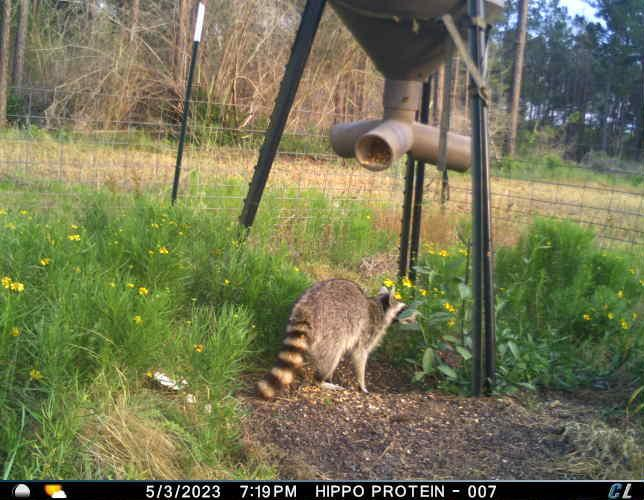Raccoon: (252, 273, 411, 404)
